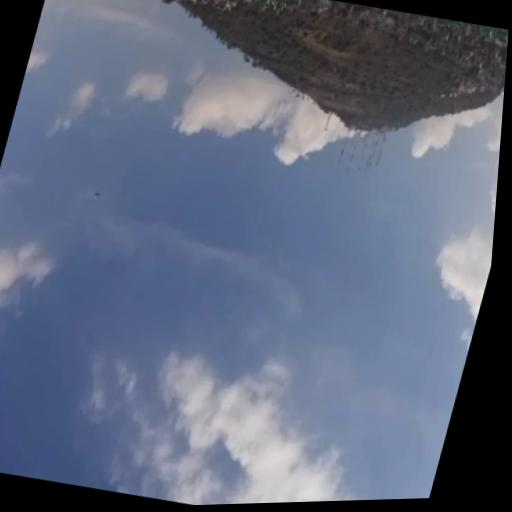drones: (90, 188, 106, 202)
